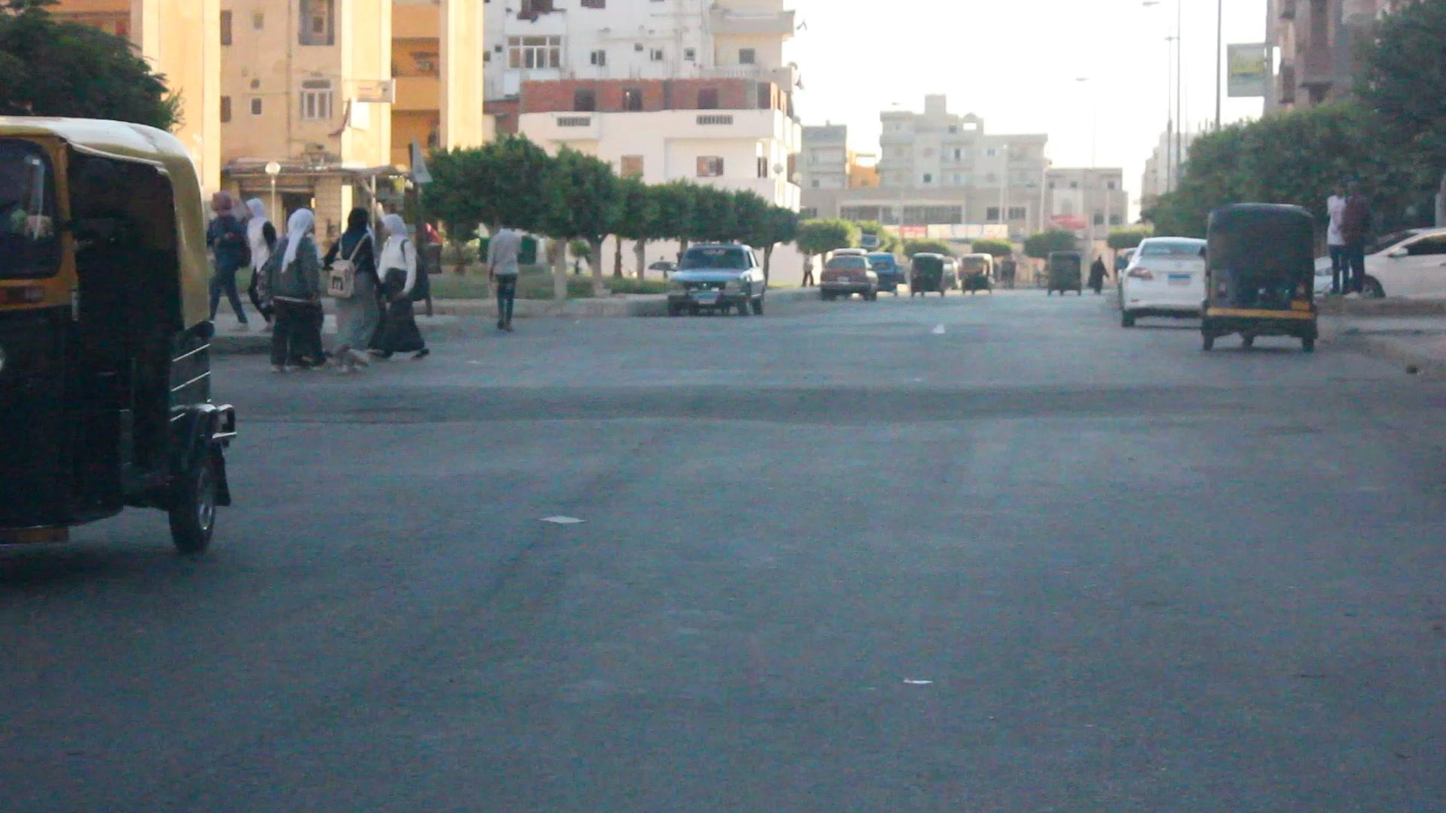Bump: (226, 375, 1446, 433)
